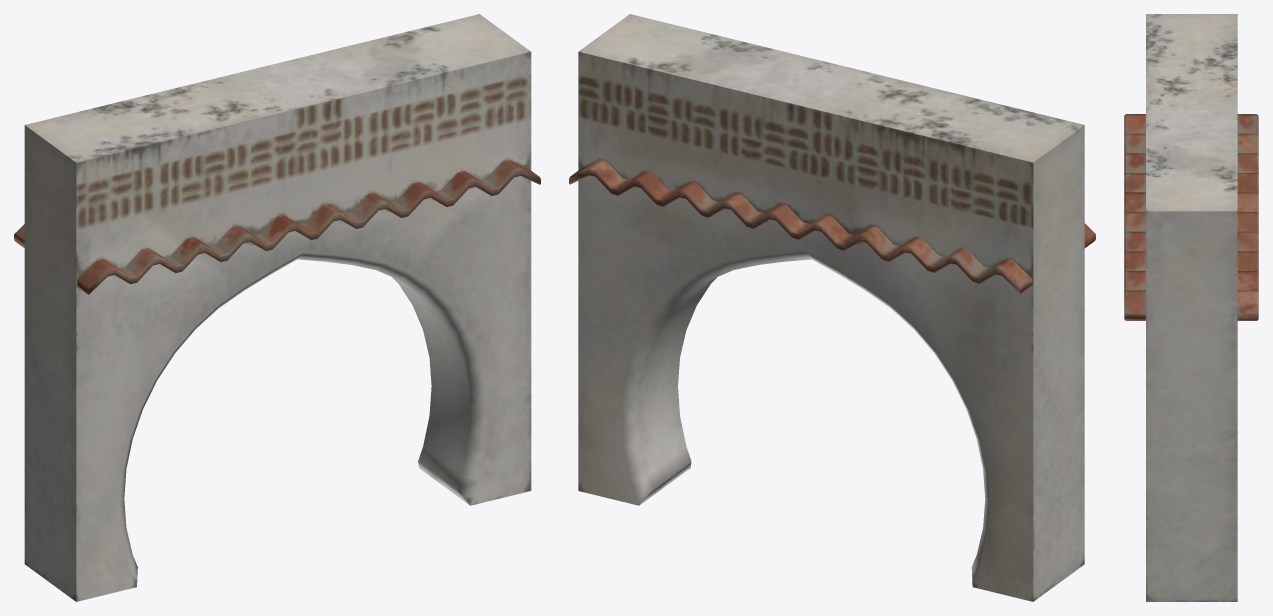
File: patrick-arch-2.glb
3 renders of one model, left to right at view 1: azimuth 30°, elevation 25°; view 2: azimuth 150°, elevation 25°; view 3: azimuth 270°, elevation 25°, orthographic. The views are drawn at different scales.
Visible parts, largest first — view 1: Tanit_Arch_02; view 2: Tanit_Arch_02; view 3: Tanit_Arch_02.
Boxes of the visible parts, x1,y1,x2,y2 form: Tanit_Arch_02: (14, 14, 540, 601); Tanit_Arch_02: (569, 14, 1095, 601); Tanit_Arch_02: (1124, 14, 1258, 601).
Bounding box in the file's own units: 0.061 × 0.0563 × 0.0175.
1 material, 1 textured.
